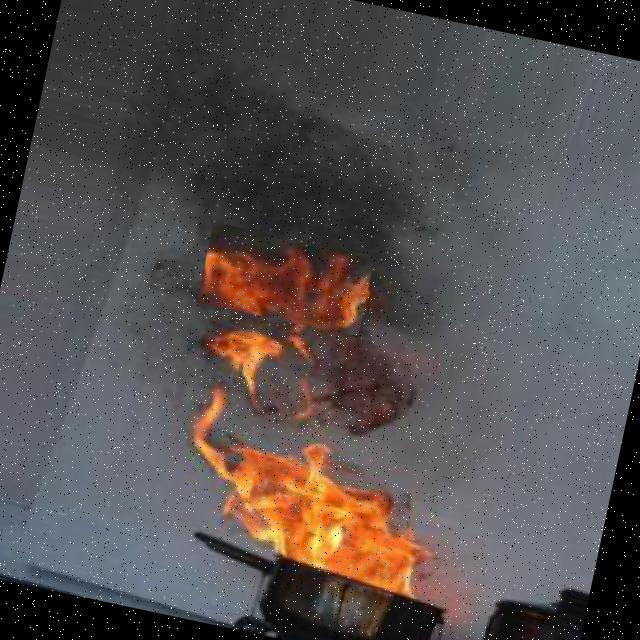fire: (138, 378, 485, 624), (196, 222, 374, 336)
